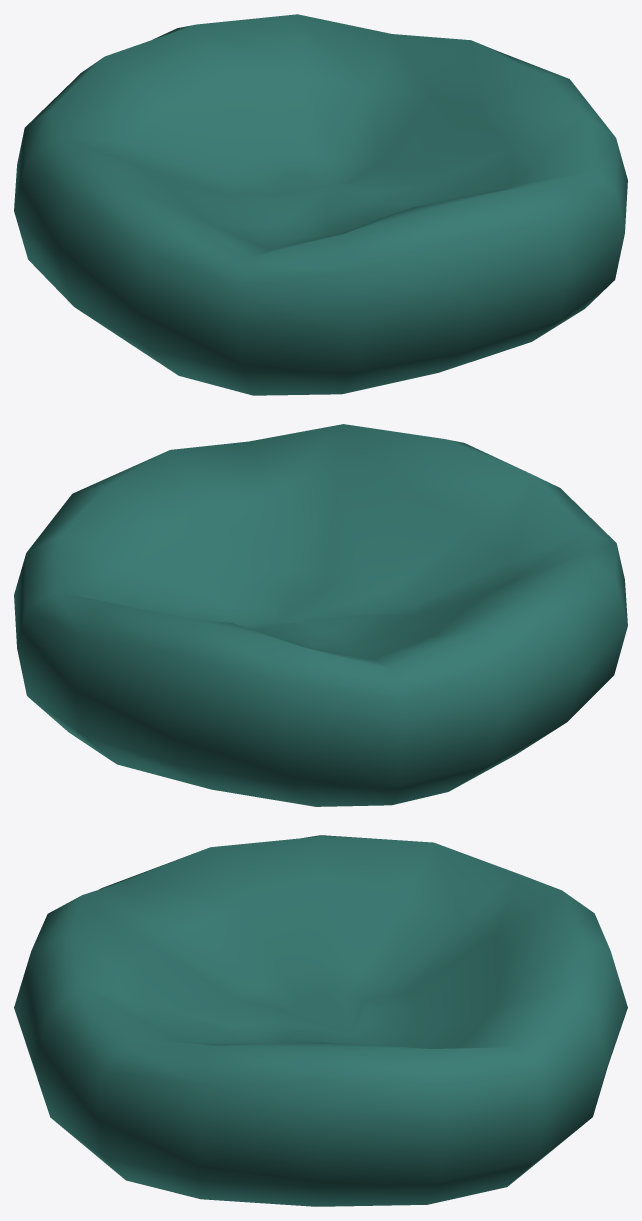
Rendered from puff.fbx.
3 views of the same model, one above another, from view 1: azimuth 30°, elevation 25°; view 2: azimuth 150°, elevation 25°; view 3: azimuth 270°, elevation 25° (orthographic).
Visible parts, largest first — view 1: Cube; view 2: Cube; view 3: Cube.
Boxes of the visible parts, <box> form: Cube: <box>14,14,627,395</box>; Cube: <box>14,424,627,806</box>; Cube: <box>14,835,627,1206</box>.
Bounding box in the file's own units: 22.68 × 8.12 × 22.68.
